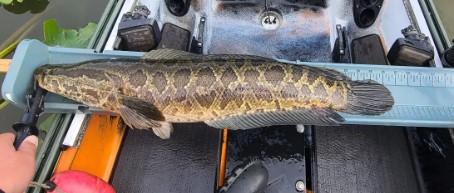Snakehead: (37, 46, 395, 134)
